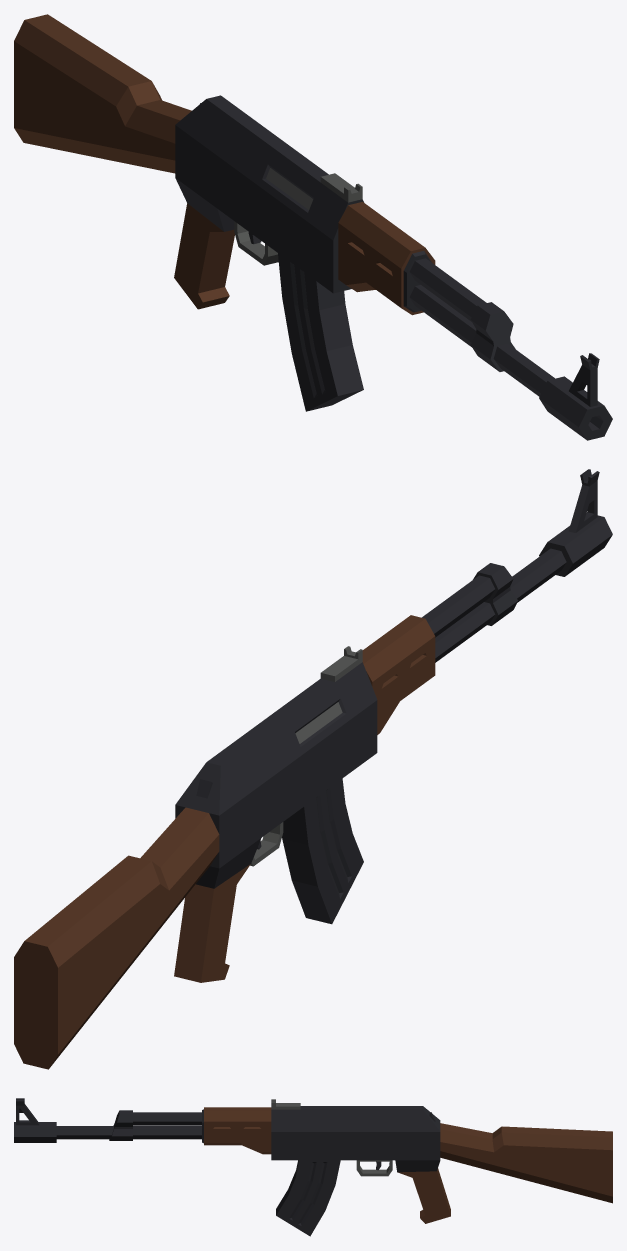
File: LPWarPack_Plane_001.fbx
3 renders of one model, top to bottom at view 1: azimuth 30°, elevation 25°; view 2: azimuth 150°, elevation 25°; view 3: azimuth 270°, elevation 25°, orthographic. The views are drawn at different scales.
Parts seen in each view (by area): view 1: Plane.001; view 2: Plane.001; view 3: Plane.001.
Boxes of the visible parts, <box> form: Plane.001: <box>14,14,612,440</box>; Plane.001: <box>14,469,612,1069</box>; Plane.001: <box>14,1098,612,1236</box>.
Bounding box in the file's own units: 4.43 × 23.96 × 97.33.
